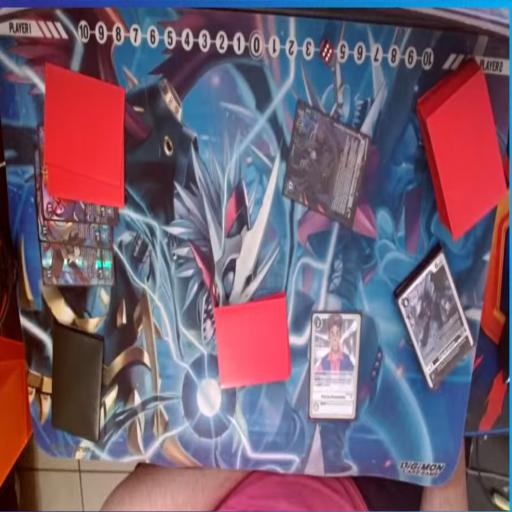card: (277, 96, 376, 230), (396, 247, 472, 394), (37, 122, 116, 221), (308, 310, 360, 424), (38, 244, 119, 288), (33, 220, 115, 251)
